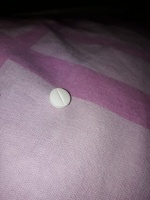Arveles: (48, 87, 73, 110)
